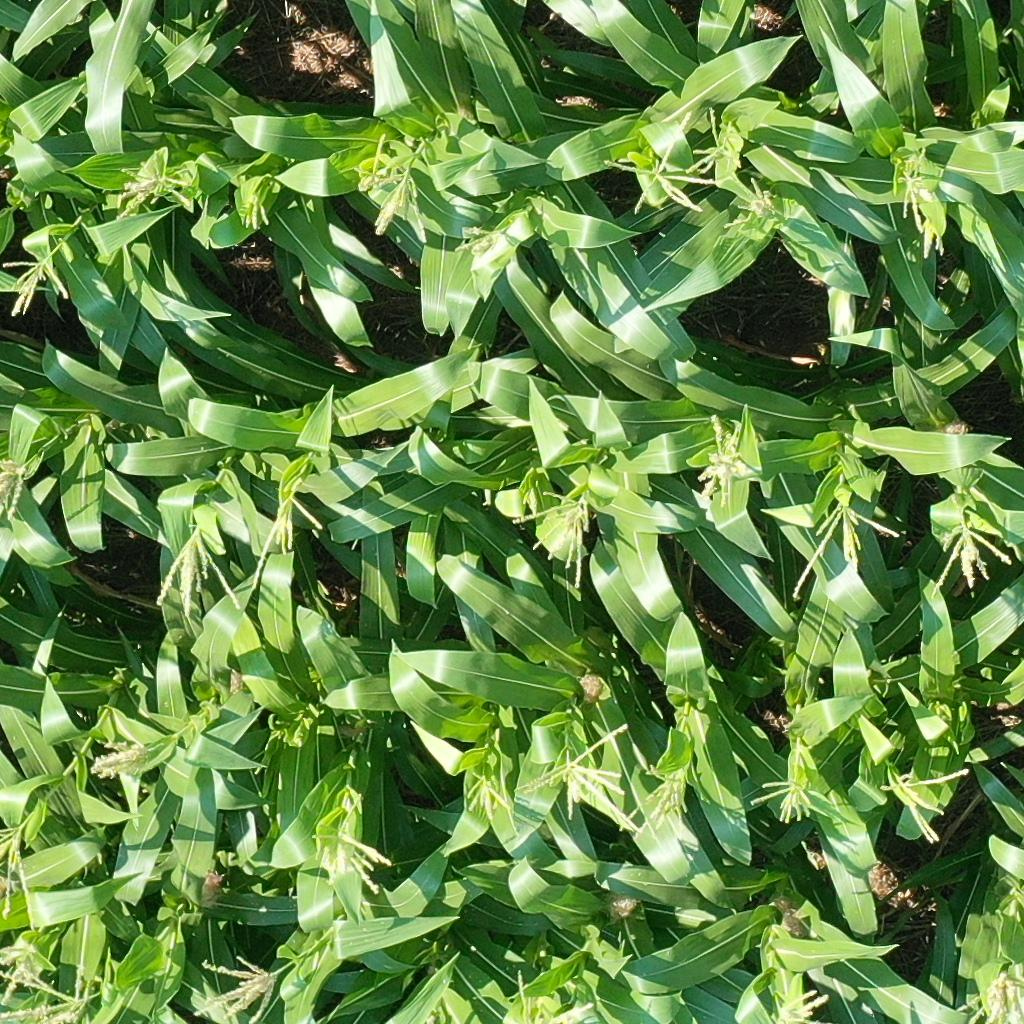Tassel: (600, 107, 718, 220), (516, 720, 635, 823), (789, 496, 903, 599), (151, 519, 243, 620), (307, 793, 394, 894), (512, 489, 595, 592), (875, 763, 972, 848), (250, 491, 321, 594), (925, 519, 1014, 601), (190, 953, 291, 1024), (107, 148, 197, 224), (1, 962, 107, 1024), (619, 762, 699, 841), (1, 239, 72, 319), (368, 166, 434, 244), (695, 411, 747, 509), (512, 967, 597, 1024), (1, 811, 39, 935), (681, 104, 742, 175), (950, 965, 1023, 1024), (891, 146, 934, 233), (720, 170, 779, 232), (749, 774, 813, 826), (87, 737, 154, 782), (1, 942, 46, 1005), (464, 769, 512, 822), (771, 984, 831, 1024), (354, 133, 389, 192), (453, 222, 509, 258), (1, 457, 31, 523), (916, 214, 946, 259), (239, 196, 270, 232), (520, 485, 541, 517)
